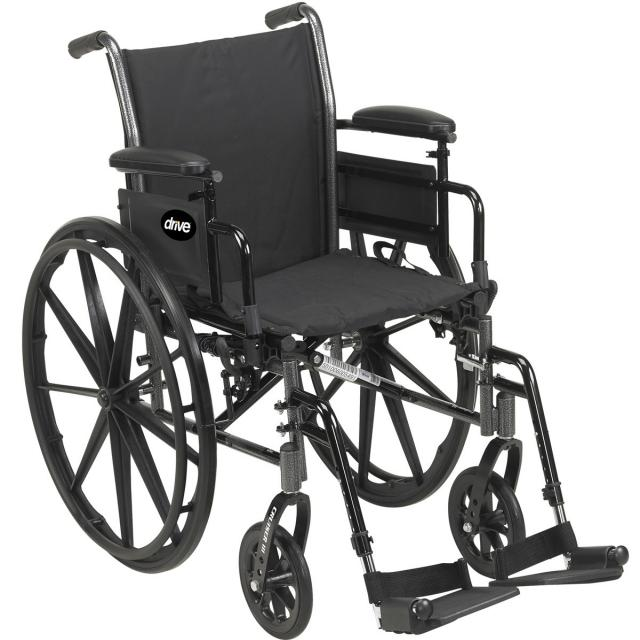wheelchair: (16, 1, 630, 640)
